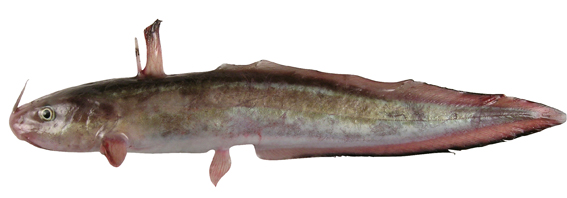fish: (8, 18, 567, 187)
